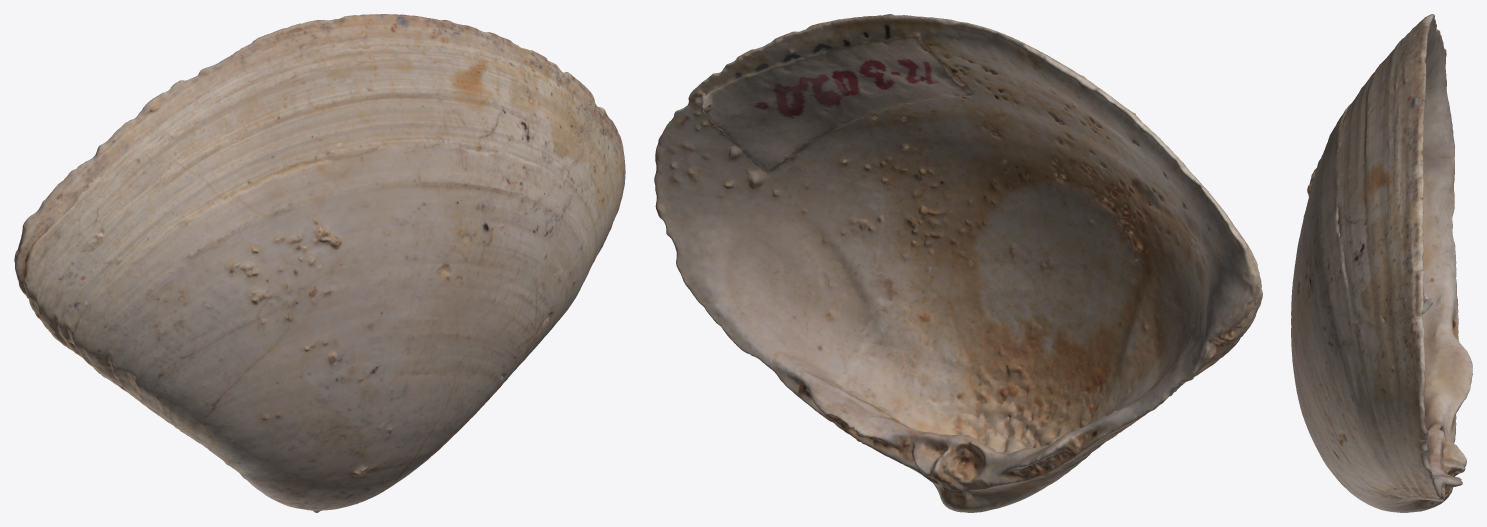
Rendered from EWS0004005.glb.
3 views of the same model, side by side, from view 1: azimuth 30°, elevation 25°; view 2: azimuth 150°, elevation 25°; view 3: azimuth 270°, elevation 25° (orthographic). The views are drawn at different scales.
Visible parts, largest first — view 1: input; view 2: input; view 3: input.
Boxes of the visible parts, bbox=[...] form: input: bbox=[14, 14, 625, 512]; input: bbox=[654, 14, 1262, 512]; input: bbox=[1291, 14, 1472, 512].
Bounding box in the file's own units: 0.0334 × 0.0254 × 0.00914.
1 material, 1 textured.
